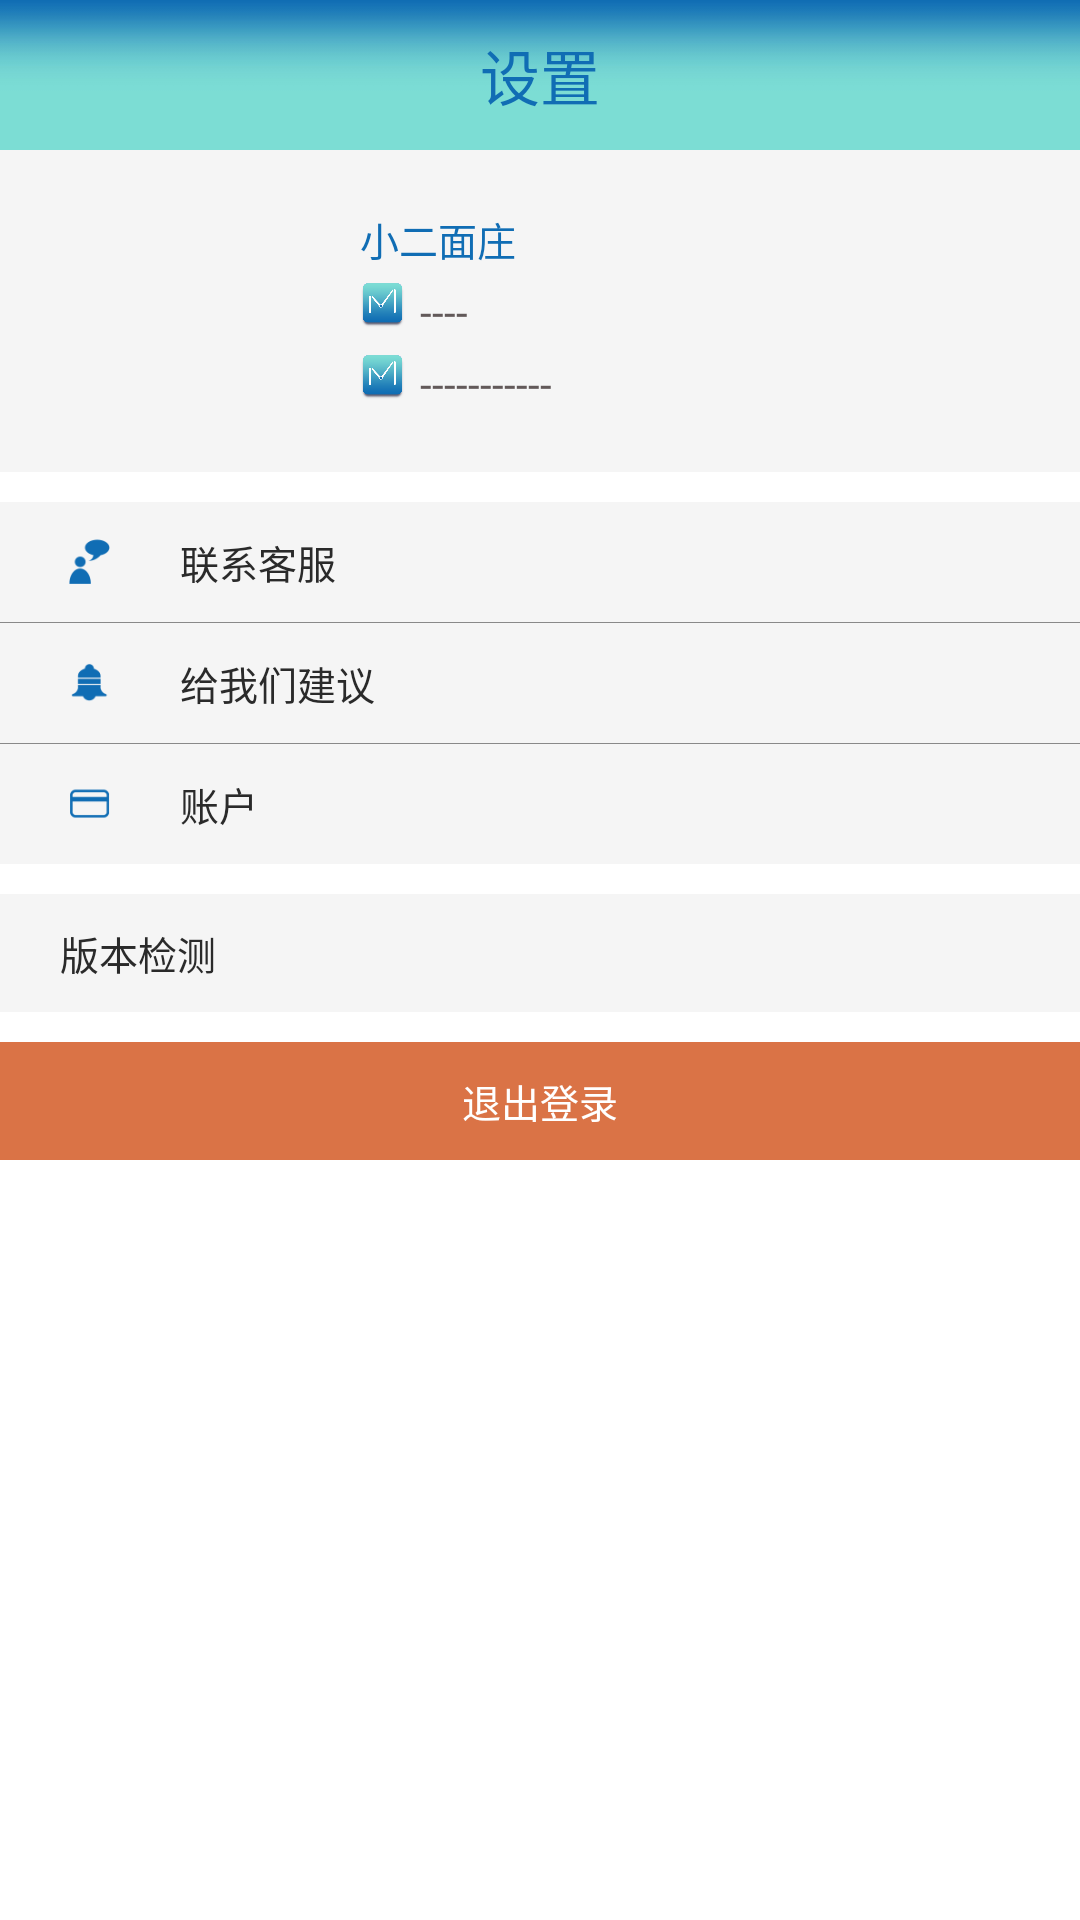

Where to tap for icons on this 1080px×1920px app screen, as [x,y]:
card: [89,803]
service: [89,561]
